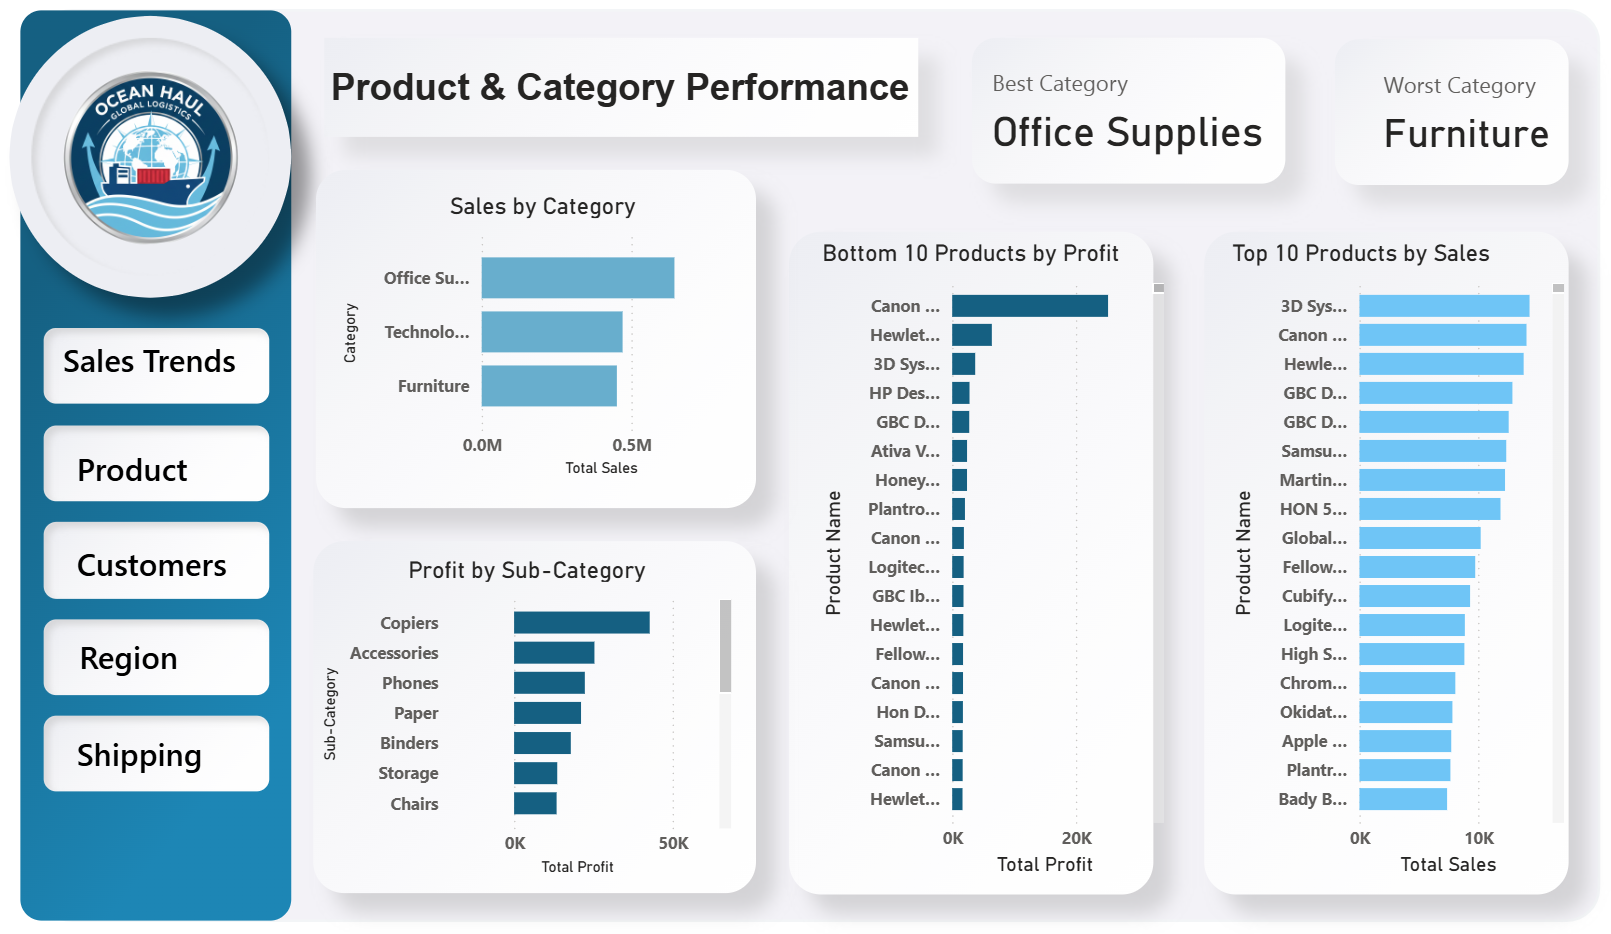

The page's visual inventory and layout, read from the dashboard file:
{"tool":"powerbi","page":{"name":"Page 3","canvas":[1280,720],"ordinal":2},"visuals":[{"type":"textbox","box":[198.8,63.8,636.2,73.8],"z":7000},{"type":"clusteredBarChart","title":"Sales by Category","fields":{"Category":["Sheet1.Category"],"Y":["Sheet1.Total Sales"]},"box":[311.2,158.8,300,212.5],"z":8000},{"type":"clusteredBarChart","title":"Profit by Sub-Category","fields":{"Category":["Sheet1.Sub-Category"],"Y":["Sheet1.Total Profit"]},"box":[296.2,423.8,306.2,237.5],"z":9000},{"type":"clusteredBarChart","title":"Top 10 Products by Sales","fields":{"Category":["Sheet1.Product Name"],"Y":["Sheet1.Total Sales"]},"box":[957.5,193.8,251.2,467.5],"z":10000},{"type":"clusteredBarChart","title":"Bottom 10 Products by Profit","fields":{"Category":["Sheet1.Product Name"],"Y":["Sheet1.Total Profit"]},"box":[658.8,193.8,258.8,467.5],"z":11000},{"type":"cardVisual","fields":{"Data":["Sheet1.Best Category"]},"box":[771.2,37.5,233.8,126.2],"z":12000},{"type":"cardVisual","fields":{"Data":["Sheet1.Worst Category"]},"box":[1055,40,157.5,122.5],"z":13000},{"type":"actionButton","box":[111.2,261.2,146.2,40],"z":13001},{"type":"actionButton","box":[122.5,476.2,146.2,40],"z":13002},{"type":"actionButton","box":[121.2,408.8,147.5,40],"z":13003},{"type":"actionButton","box":[121.2,547.5,147.5,40],"z":13004},{"type":"actionButton","box":[121.2,338.8,147.5,41.2],"z":13005},{"type":"image","box":[82.5,42.5,186.2,183.8],"z":13006}]}

Visuals, with their boxes in screenshot pixels (x1, y1, x2, y2), scaled from the page's 1280x720 canvas onto the 1611x934 screenshot:
textbox: (250, 83, 1051, 178)
"Sales by Category" clusteredBarChart: (392, 206, 769, 482)
"Profit by Sub-Category" clusteredBarChart: (373, 550, 758, 858)
"Top 10 Products by Sales" clusteredBarChart: (1205, 251, 1521, 858)
"Bottom 10 Products by Profit" clusteredBarChart: (829, 251, 1155, 858)
cardVisual - Sheet1.Best Category: (971, 49, 1265, 212)
cardVisual - Sheet1.Worst Category: (1328, 52, 1526, 211)
actionButton: (140, 339, 324, 391)
actionButton: (154, 618, 338, 670)
actionButton: (153, 530, 338, 582)
actionButton: (153, 710, 338, 762)
actionButton: (153, 439, 338, 493)
image: (104, 55, 338, 294)
